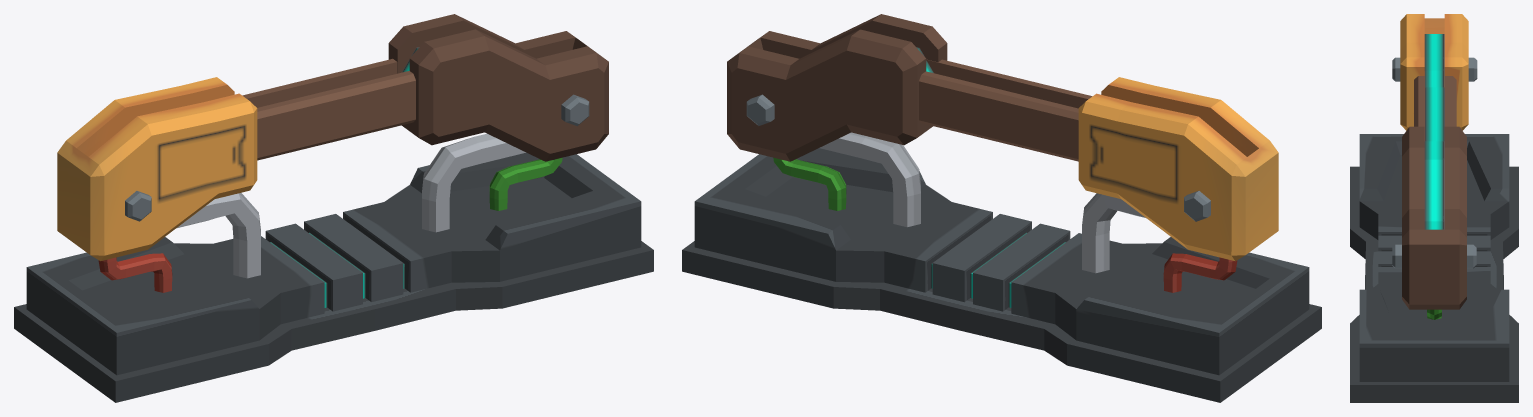
File: SM_Prop_Hologram_Stand_03.fbx
3 views of the same model, side by side, from view 1: azimuth 30°, elevation 25°; view 2: azimuth 150°, elevation 25°; view 3: azimuth 270°, elevation 25° (orthographic). The views are drawn at different scales.
Parts seen in each view (by area): view 1: SM_Prop_Hologram_Stand_03; view 2: SM_Prop_Hologram_Stand_03; view 3: SM_Prop_Hologram_Stand_03.
Boxes of the visible parts, bbox=[...] form: SM_Prop_Hologram_Stand_03: bbox=[14, 14, 653, 402]; SM_Prop_Hologram_Stand_03: bbox=[682, 14, 1321, 402]; SM_Prop_Hologram_Stand_03: bbox=[1350, 14, 1518, 402].
Size of the model in its own units: 149 by 63.92 by 48.57.
